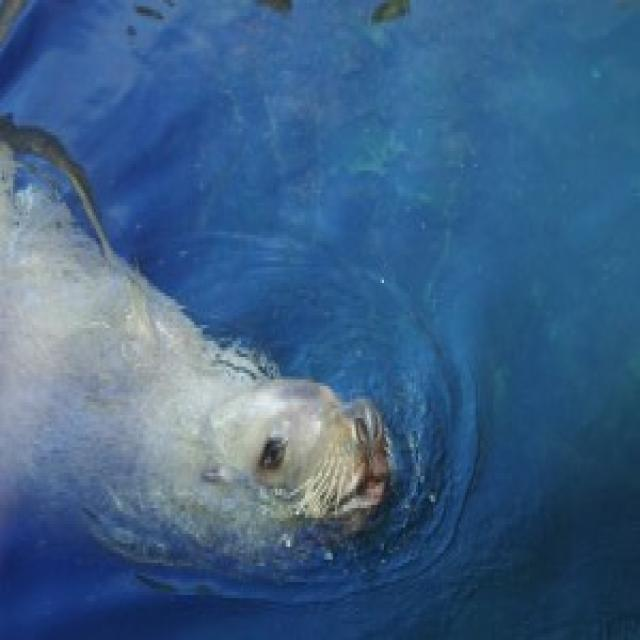Seal: (0, 135, 412, 550)
